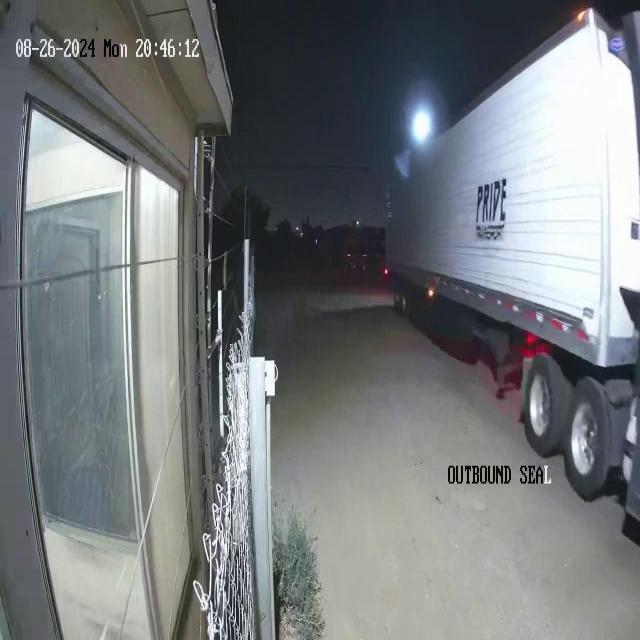TRUCK_IN: (383, 5, 639, 502)
